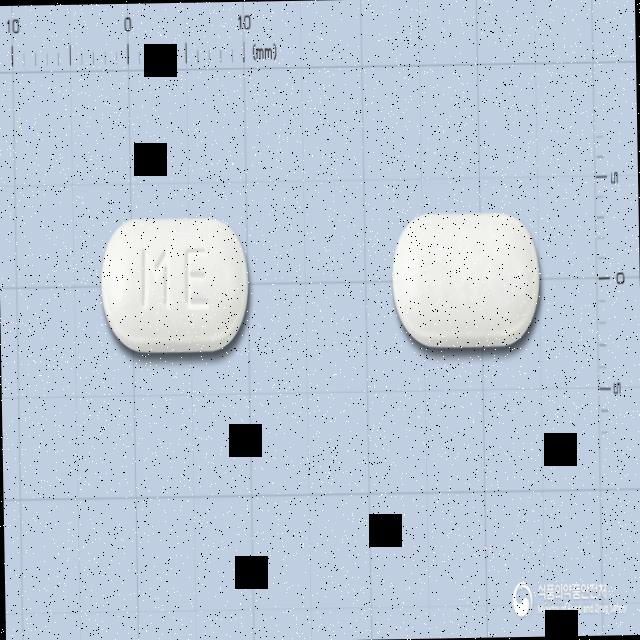Meiact Tab- Boryung: (100, 217, 250, 356)
